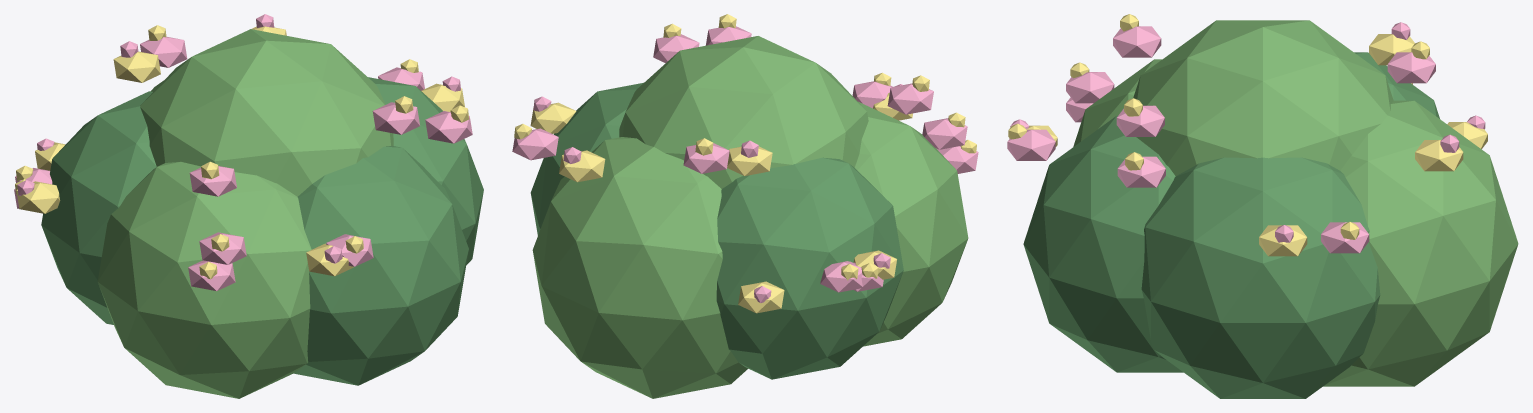
File: HOB_FlowerBush.fbx
The picture shows the model from 3 angles, left to right: view 1: azimuth 30°, elevation 25°; view 2: azimuth 150°, elevation 25°; view 3: azimuth 270°, elevation 25°; orthographic projection. The views are drawn at different scales.
Visible parts, largest first — view 1: HOB_FlowerBush; view 2: HOB_FlowerBush; view 3: HOB_FlowerBush.
Boxes of the visible parts, x1,y1,x2,y2 form: HOB_FlowerBush: (14,14,483,398); HOB_FlowerBush: (512,14,978,398); HOB_FlowerBush: (1007,14,1518,398).
Size of the model in its own units: 158 by 119 by 162.
